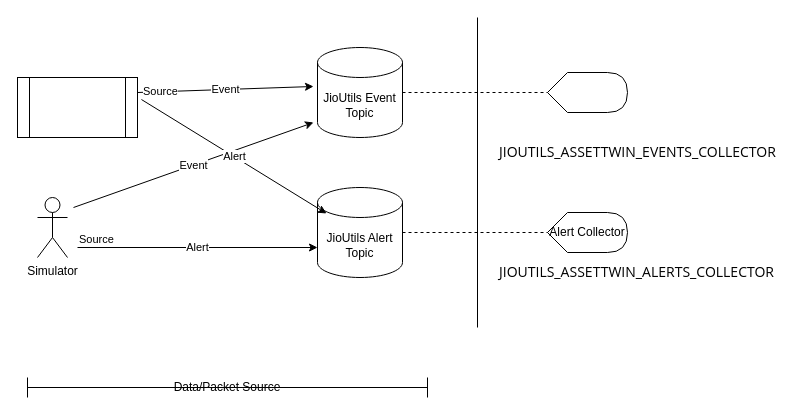
Some shapes in this 805 by 415 pixel diagram are drawn without their labels. Each missing label, with the centre of its shape:
"Device" goes at pixel 77 107.
"Event Collector" goes at pixel 587 92.
